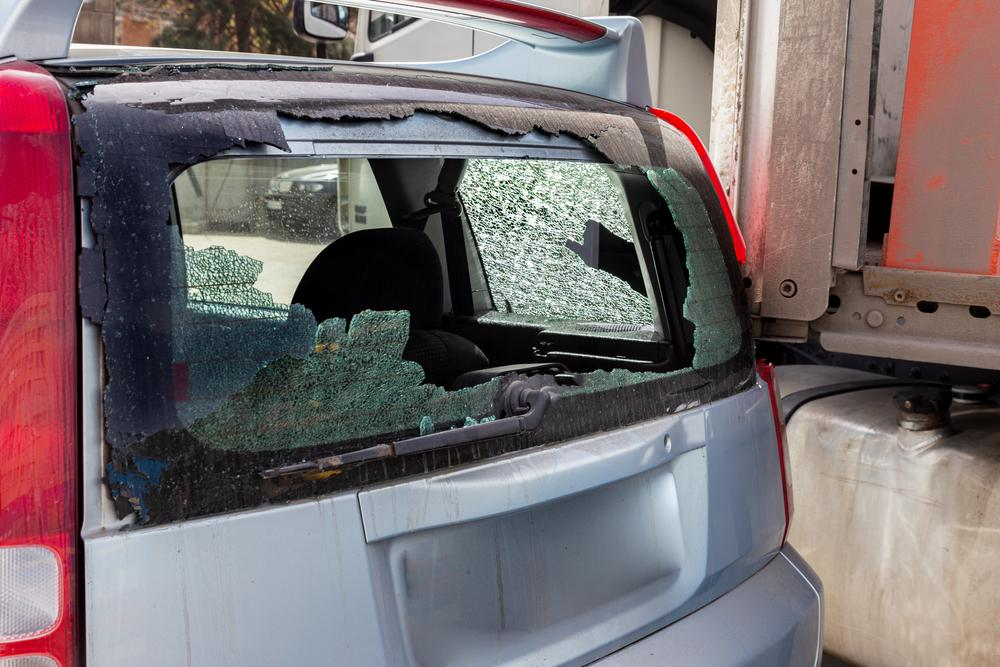glass shatter: (77, 96, 754, 529)
